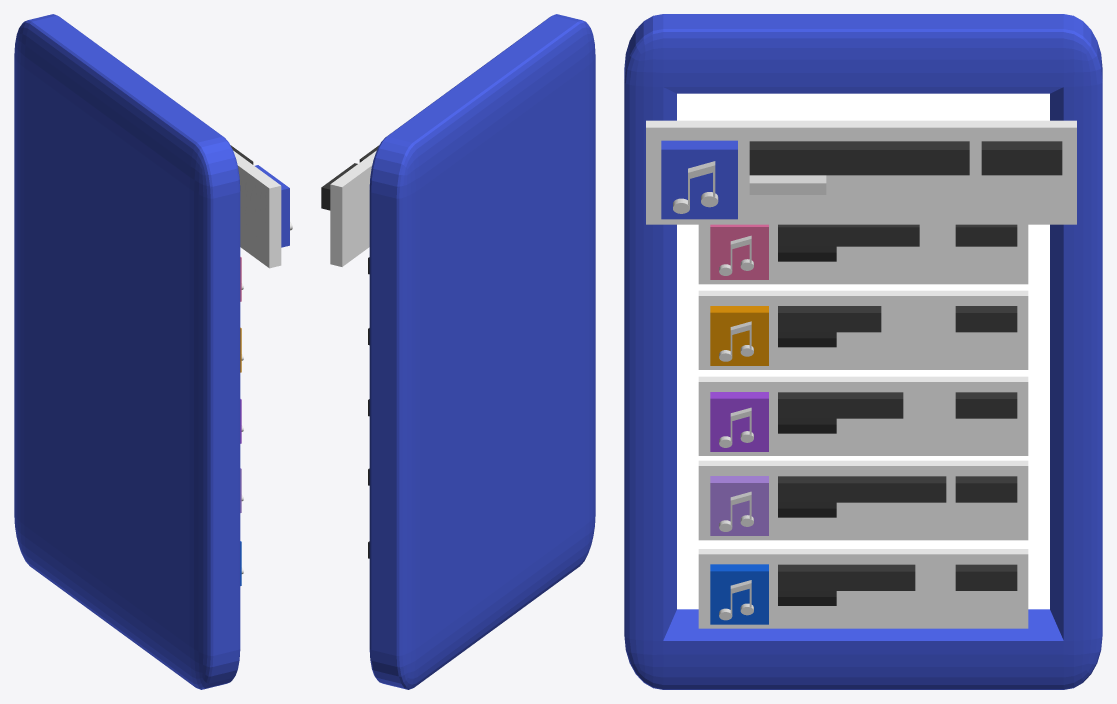
File: cellphone.glb
The picture shows the model from 3 angles, left to right: view 1: azimuth 30°, elevation 25°; view 2: azimuth 150°, elevation 25°; view 3: azimuth 270°, elevation 25°; orthographic projection. The views are drawn at different scales.
Visible parts, largest first — view 1: Cube, Cube.001, Cube.011; view 2: Cube, Cube.001; view 3: Cube, Cube.001, Cube.024, Cube.025, Cube.037, Cube.036, Cube.013, Cube.010, Cube.011, Cube.034, Cube.039, Cube.027 (+19 smaller).
Part boxes in pixels (box(x1,y1,x2,y2)): Cube: box(14, 14, 240, 689); Cube.001: box(233, 150, 281, 268); Cube.011: box(255, 165, 289, 247); Cube: box(369, 14, 595, 689); Cube.001: box(330, 150, 376, 266); Cube: box(624, 14, 1102, 689); Cube.001: box(646, 120, 1076, 224); Cube.024: box(698, 290, 1028, 369); Cube.025: box(698, 376, 1028, 455); Cube.037: box(698, 549, 1028, 628); Cube.036: box(698, 460, 1028, 540); Cube.013: box(698, 224, 1028, 284); Cube.010: box(749, 141, 969, 175); Cube.011: box(661, 140, 737, 219); Cube.034: box(778, 476, 946, 502); Cube.039: box(778, 564, 915, 590); Cube.027: box(778, 392, 903, 418).
Bounding box in the file's own units: 0.6259 × 3.05 × 2.
